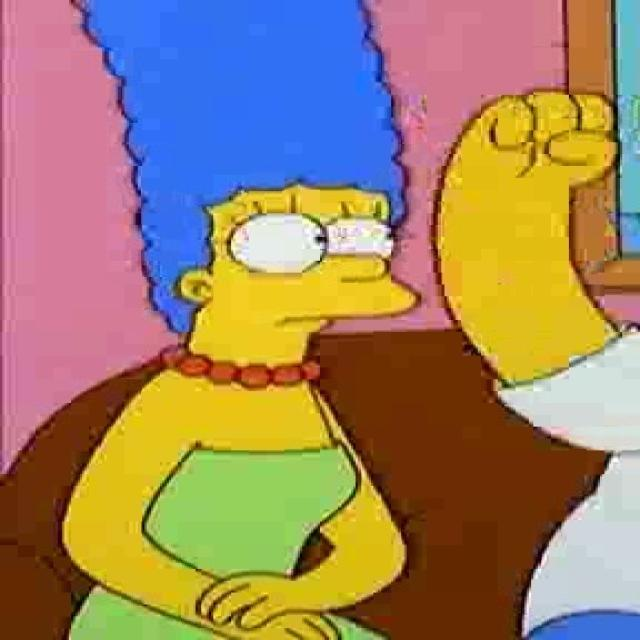Marge Simpson: (72, 1, 421, 390)
